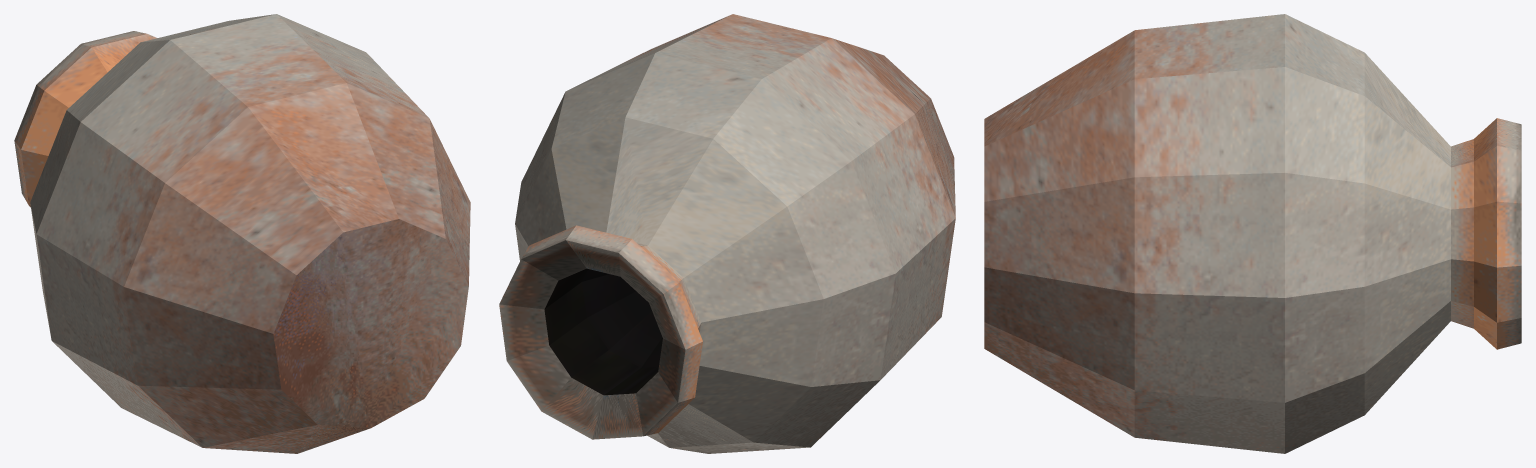
File: PSXVas(Printer_Not_Found@itch_io).fbx
3 renders of one model, left to right at view 1: azimuth 30°, elevation 25°; view 2: azimuth 150°, elevation 25°; view 3: azimuth 270°, elevation 25°, orthographic.
Parts seen in each view (by area): view 1: Cylinder; view 2: Cylinder; view 3: Cylinder.
Boxes of the visible parts, bbox=[...] form: Cylinder: bbox=[14, 14, 470, 453]; Cylinder: bbox=[499, 14, 955, 453]; Cylinder: bbox=[984, 14, 1521, 453].
Bounding box in the file's own units: 281 × 278 × 344.
